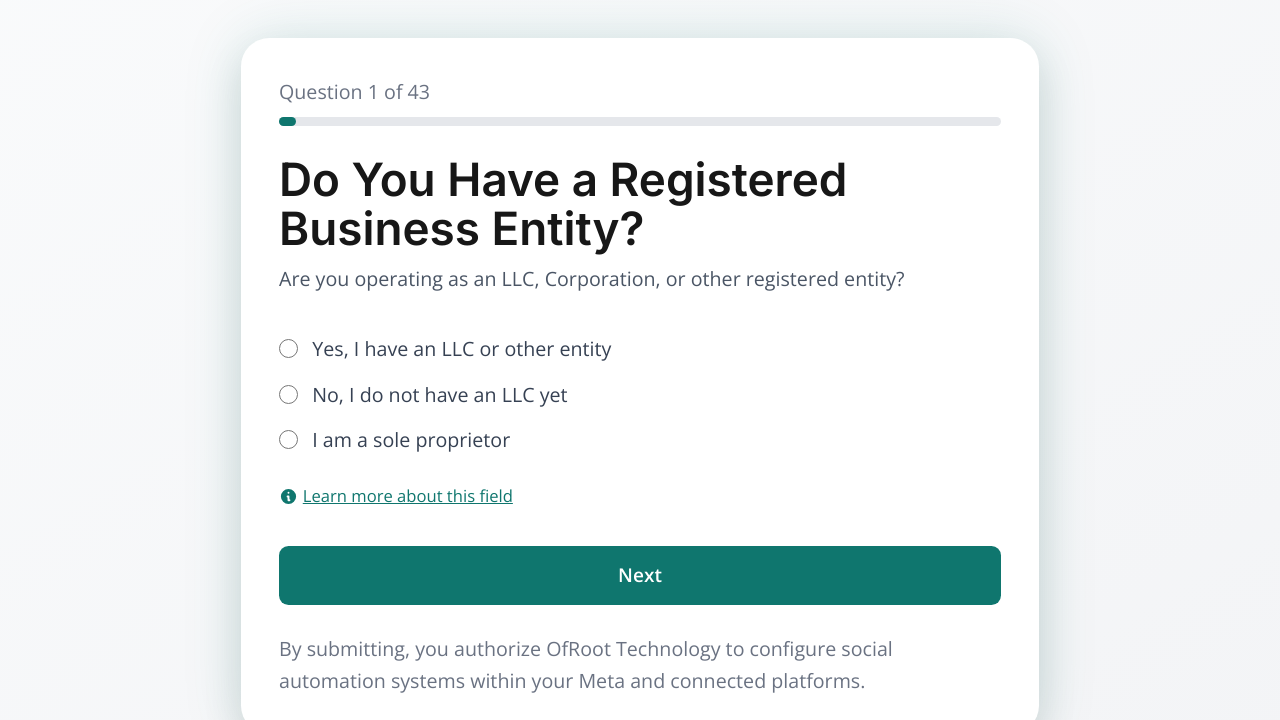
it: SteppedAutomationForm › advances to next question when Next button is clicked
Click the radio button labelled "Yes, I have an LLC or other entity" at (288, 349), box left=279, top=339, right=298, bottom=358
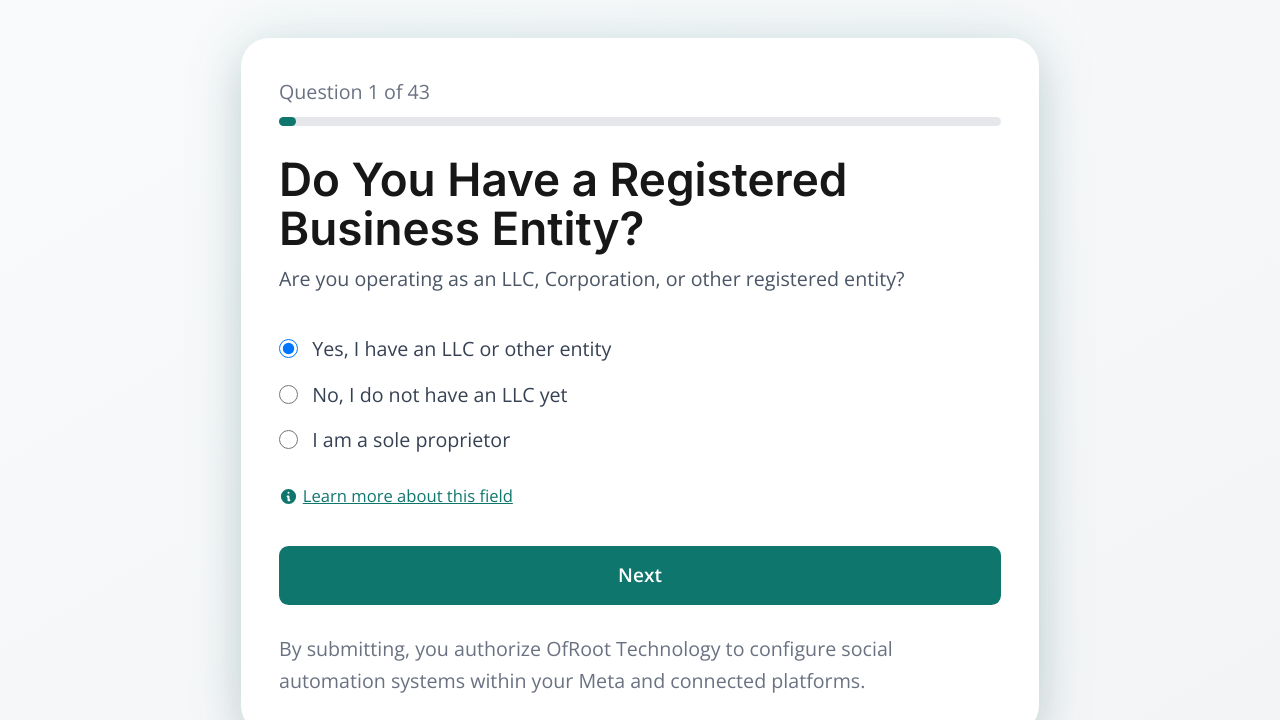
Click the button with test id "btn-next" at (640, 575), box left=279, top=546, right=1001, bottom=605
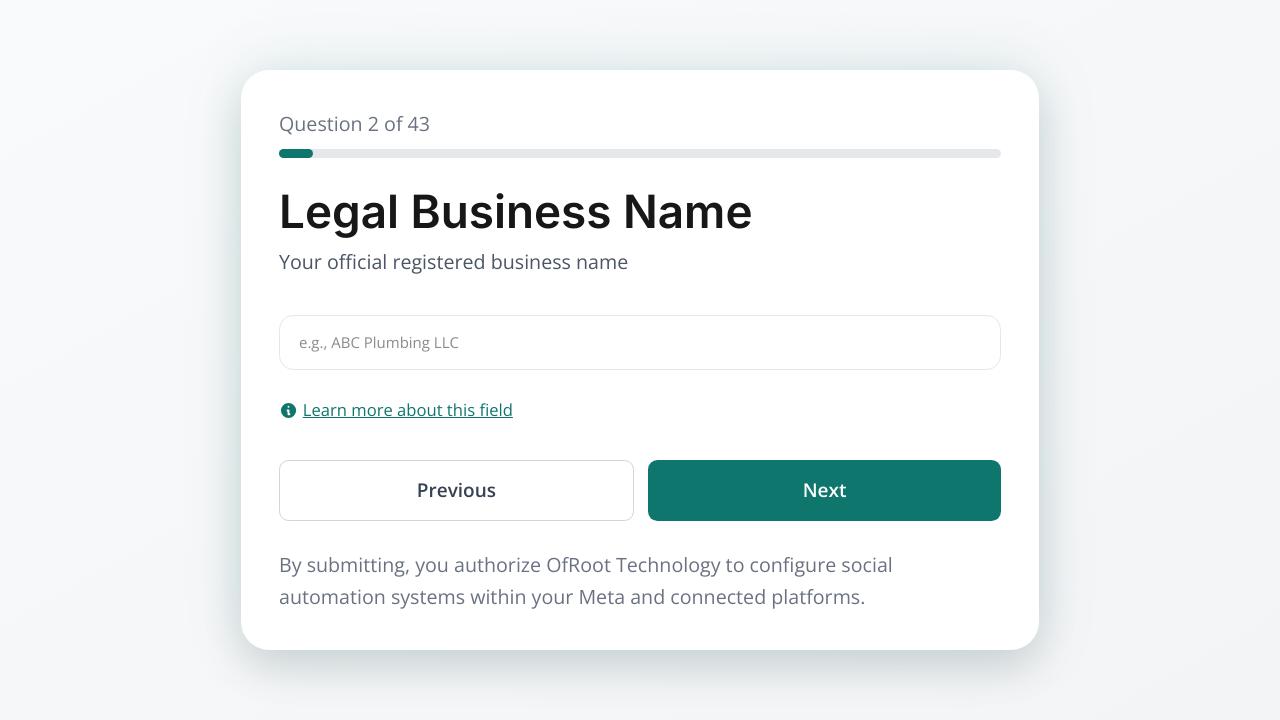
Expected: the text "Question 2 of 43" is shown, left=279, top=110, right=430, bottom=137
Expected: the text "Legal Business Name" is shown, left=279, top=184, right=752, bottom=239
